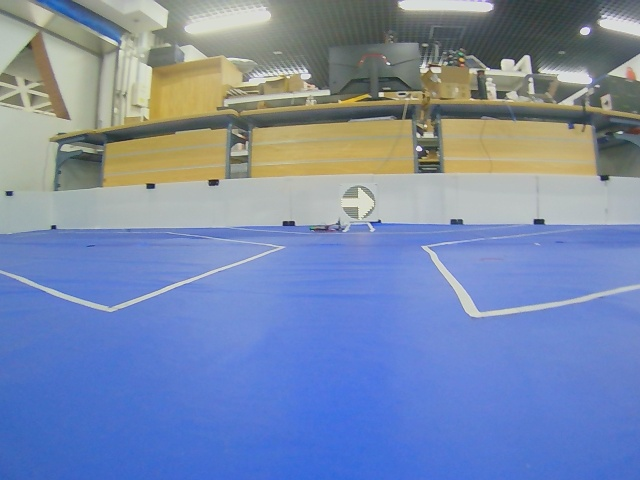right_yellow: (341, 185, 375, 221)
